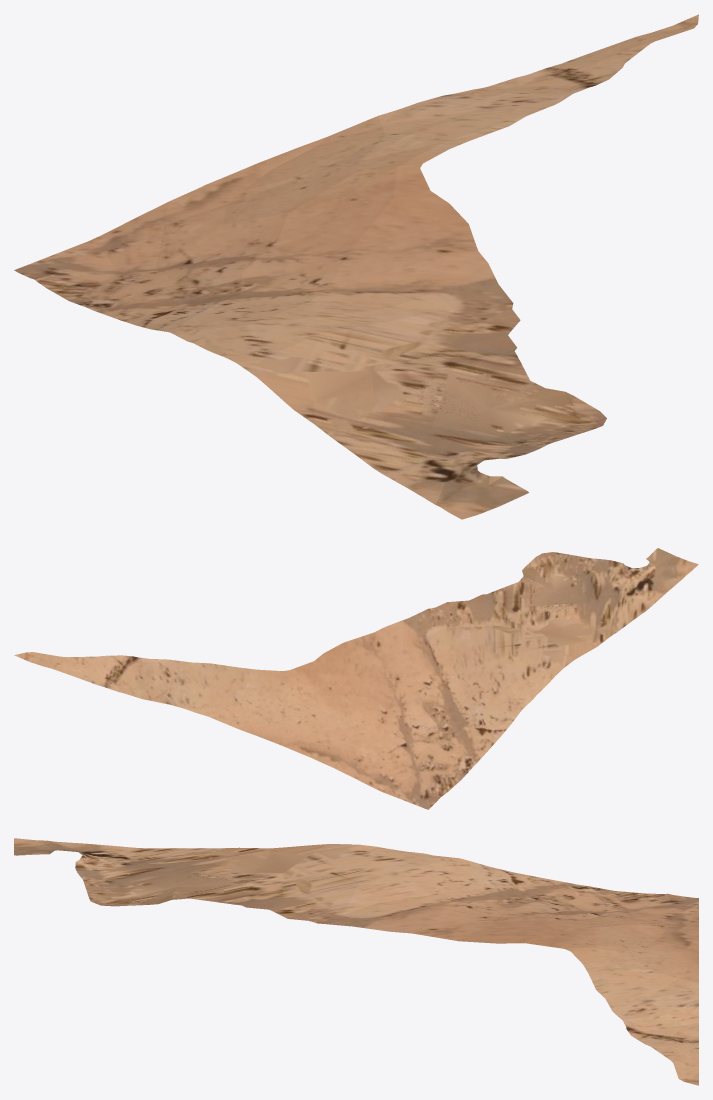
3 renders of one model, top to bottom at view 1: azimuth 30°, elevation 25°; view 2: azimuth 150°, elevation 25°; view 3: azimuth 270°, elevation 25°, orthographic. The views are drawn at different scales.
Size of the model in its own units: 1.84 by 0.2284 by 2.09.
1 material, 1 textured.
